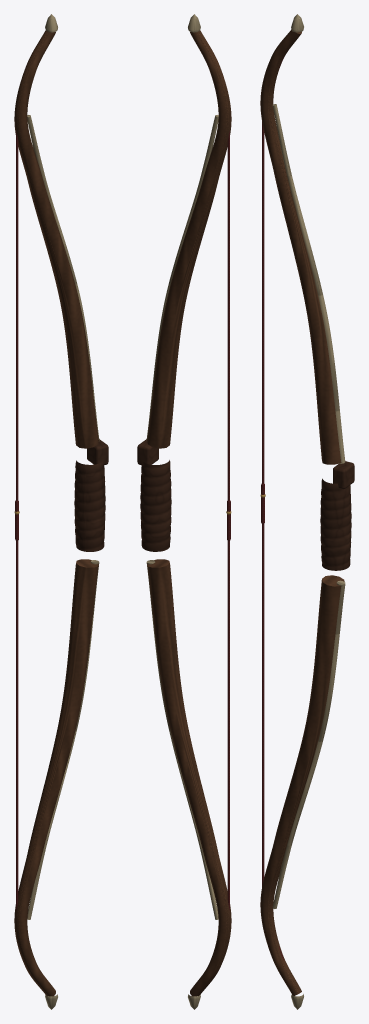
File: recurve-bow.glb
3 renders of one model, left to right at view 1: azimuth 30°, elevation 25°; view 2: azimuth 150°, elevation 25°; view 3: azimuth 330°, elevation 25°, orthographic.
Parts seen in each view (by area): view 1: wood / oiled hardwood, leather / oiled leather wrap, cord / waxed silk cord wrap, horn / polished horn and bone; view 2: wood / oiled hardwood, leather / oiled leather wrap, cord / waxed silk cord wrap, horn / polished horn and bone; view 3: wood / oiled hardwood, horn / polished horn and bone, leather / oiled leather wrap, cord / waxed silk cord wrap.
Part boxes in pixels (bbox=[...]): wood / oiled hardwood: bbox=[14, 30, 98, 996]; leather / oiled leather wrap: bbox=[74, 439, 108, 551]; cord / waxed silk cord wrap: bbox=[15, 131, 18, 910]; horn / polished horn and bone: bbox=[27, 14, 99, 1009]; wood / oiled hardwood: bbox=[147, 30, 231, 996]; leather / oiled leather wrap: bbox=[137, 439, 171, 551]; cord / waxed silk cord wrap: bbox=[227, 131, 230, 910]; horn / polished horn and bone: bbox=[146, 14, 218, 1009]; wood / oiled hardwood: bbox=[260, 29, 344, 995]; horn / polished horn and bone: bbox=[272, 14, 345, 1009]; leather / oiled leather wrap: bbox=[320, 461, 354, 570]; cord / waxed silk cord wrap: bbox=[261, 57, 284, 960].
Bounding box in the file's own units: 0.1394 × 1.49 × 0.0422.
Materials: 5 (5 with a texture image).
